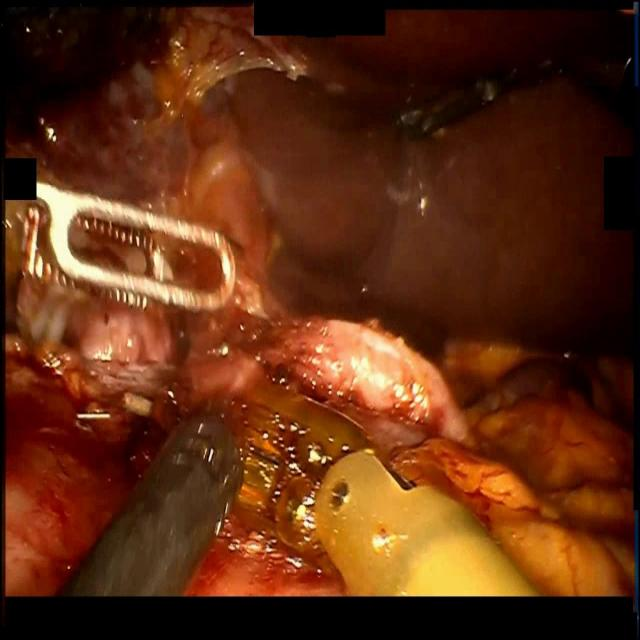surgical-area: (6, 4, 636, 599)
surgical-tool: (54, 404, 244, 599), (313, 441, 548, 595), (4, 177, 236, 316)
